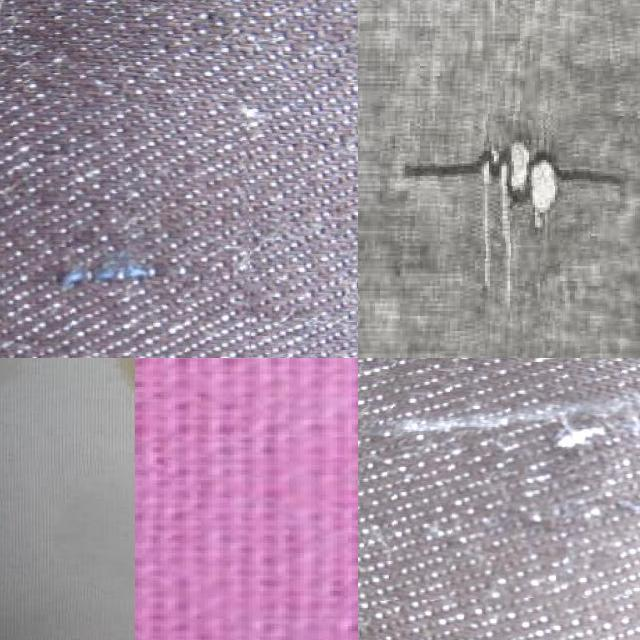Thread_other: (83, 358, 134, 454)
other: (438, 114, 590, 260)
stains: (358, 358, 640, 601), (0, 103, 249, 358)
